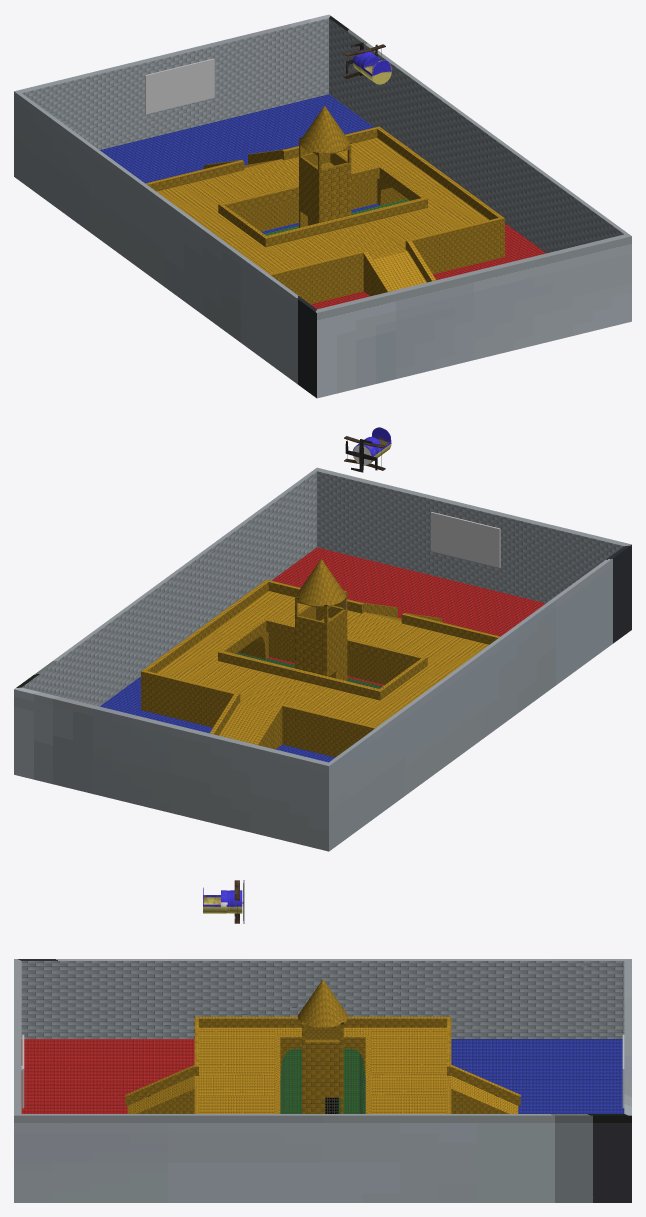
File: dfffduk.fbx
3 views of the same model, one above another, from view 1: azimuth 30°, elevation 25°; view 2: azimuth 150°, elevation 25°; view 3: azimuth 270°, elevation 25° (orthographic). The views are drawn at different scales.
Visible parts, largest first — view 1: Куб.005, Куб, Плоскость, Куб.002, Плоскость.002, Конус, Цилиндр; view 2: Куб.005, Куб, Плоскость, Куб.002, Плоскость.001, Конус, Цилиндр; view 3: Куб.005, Плоскость, Куб, Куб.002, Конус, Цилиндр.
Boxes of the visible parts, x1=… form: Куб.005: x1=14, y1=14, x2=631, y2=398; Куб: x1=145, y1=126, x2=504, y2=304; Плоскость: x1=100, y1=94, x2=545, y2=309; Куб.002: x1=299, y1=137, x2=351, y2=227; Плоскость.002: x1=145, y1=58, x2=214, y2=114; Конус: x1=300, y1=105, x2=349, y2=153; Цилиндр: x1=344, y1=44, x2=391, y2=84; Куб.005: x1=14, y1=467, x2=631, y2=851; Куб: x1=141, y1=579, x2=500, y2=757; Плоскость: x1=100, y1=547, x2=545, y2=762; Куб.002: x1=295, y1=590, x2=347, y2=680; Плоскость.001: x1=431, y1=512, x2=500, y2=567; Конус: x1=296, y1=559, x2=345, y2=606; Цилиндр: x1=344, y1=427, x2=391, y2=470; Куб.005: x1=14, y1=959, x2=631, y2=1202; Плоскость: x1=21, y1=1039, x2=624, y2=1113; Куб: x1=125, y1=1016, x2=520, y2=1113; Куб.002: x1=302, y1=1008, x2=343, y2=1113; Конус: x1=297, y1=979, x2=348, y2=1027; Цилиндр: x1=203, y1=880, x2=243, y2=923.
Size of the model in its own units: 3778 by 2953 by 6292.
